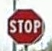stop: (7, 7, 43, 43)
